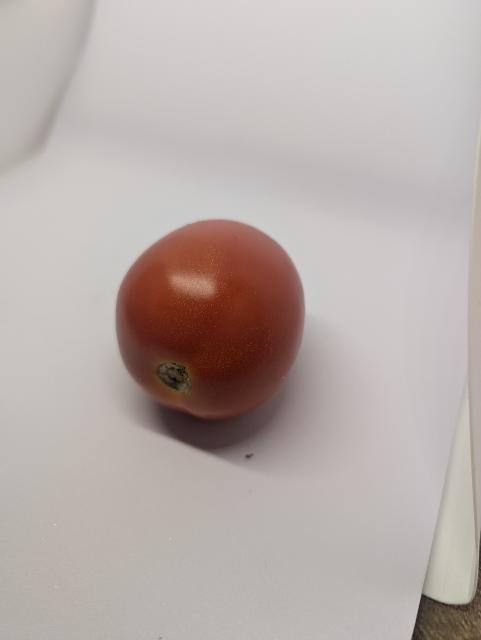red: (97, 216, 335, 438)
